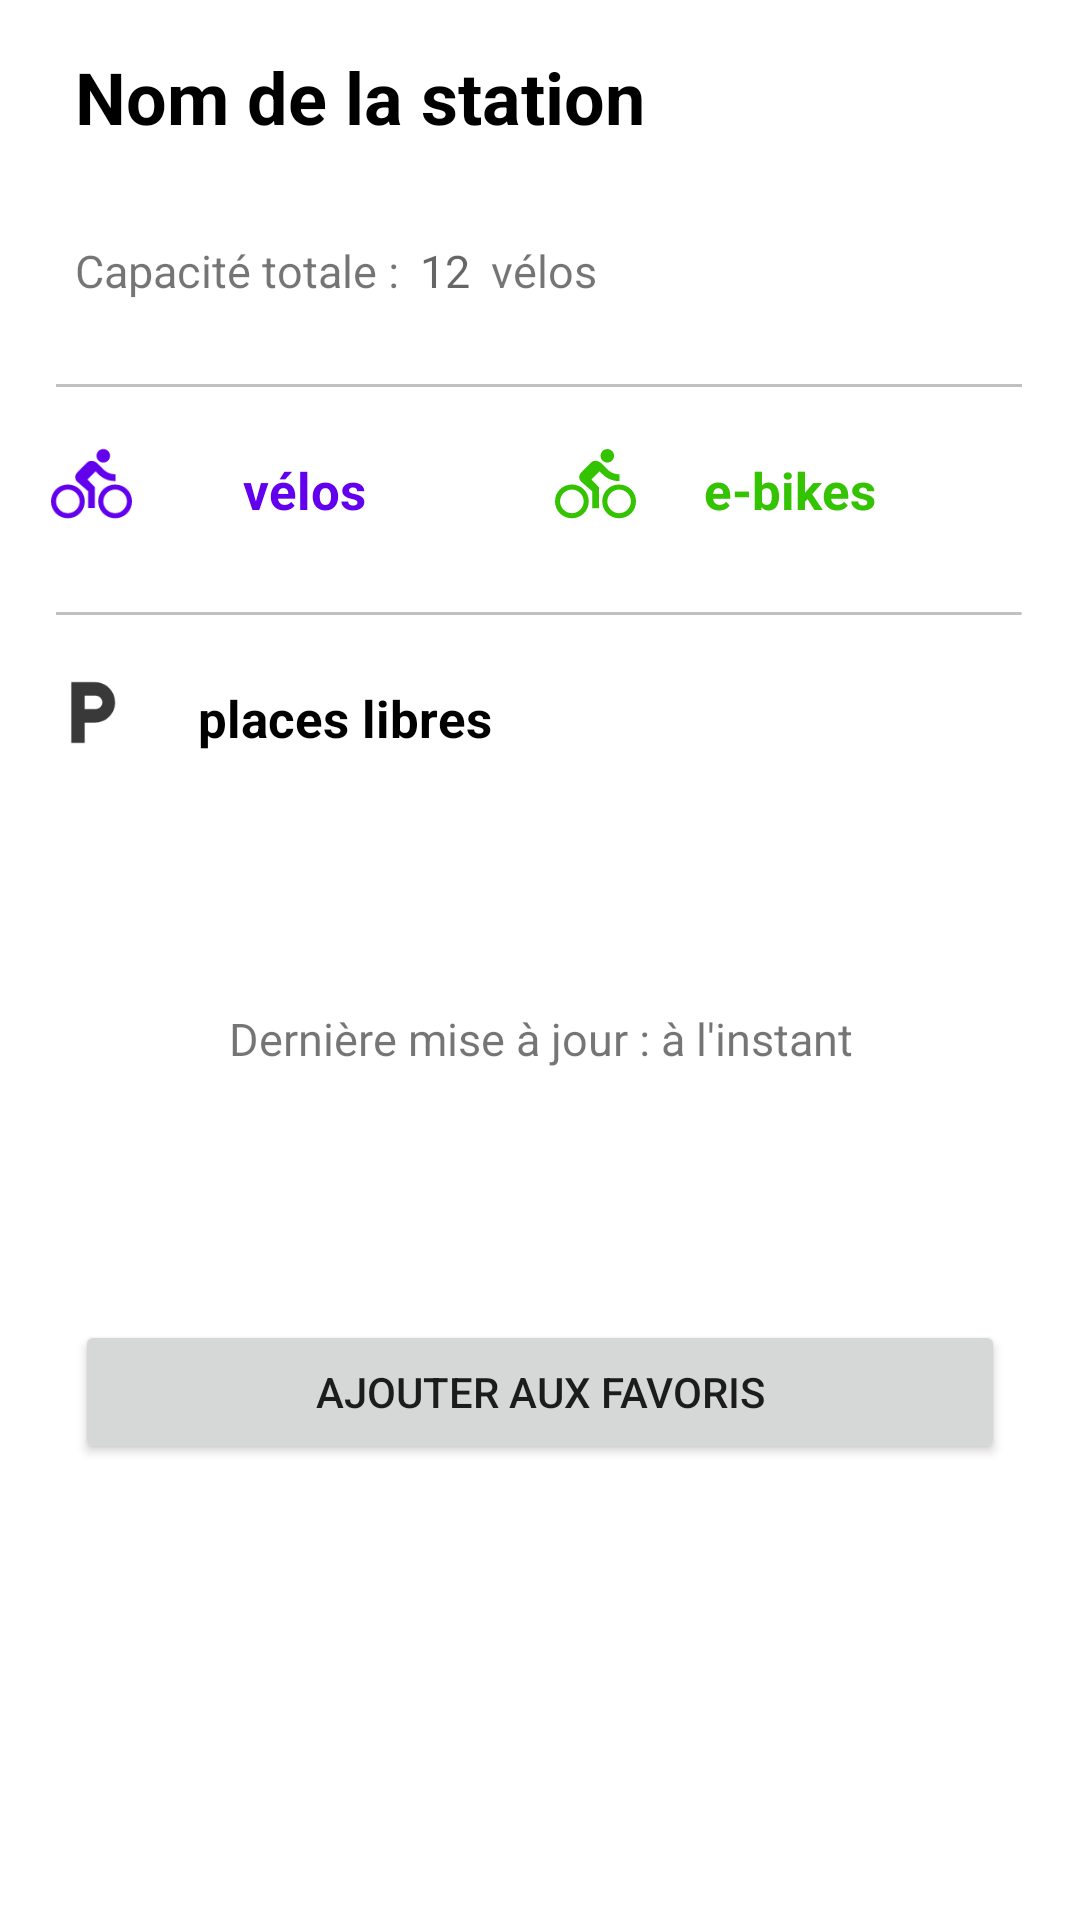

Named icons in this screenshot (1080 × 1920) and their bounding boxes, (x1, y1, x2, y2):
directions bike: (51, 448, 132, 519), (555, 449, 636, 519)
local parking: (71, 682, 116, 743)
